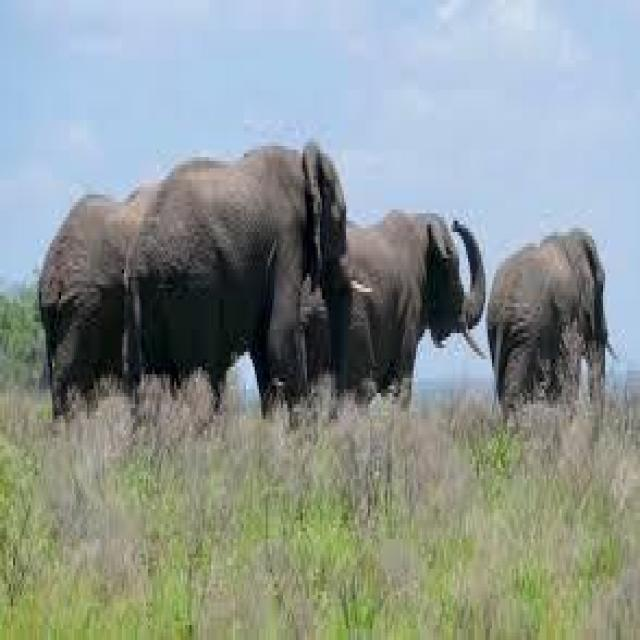Elephant: (113, 138, 357, 416), (301, 202, 484, 401), (483, 217, 616, 408)
